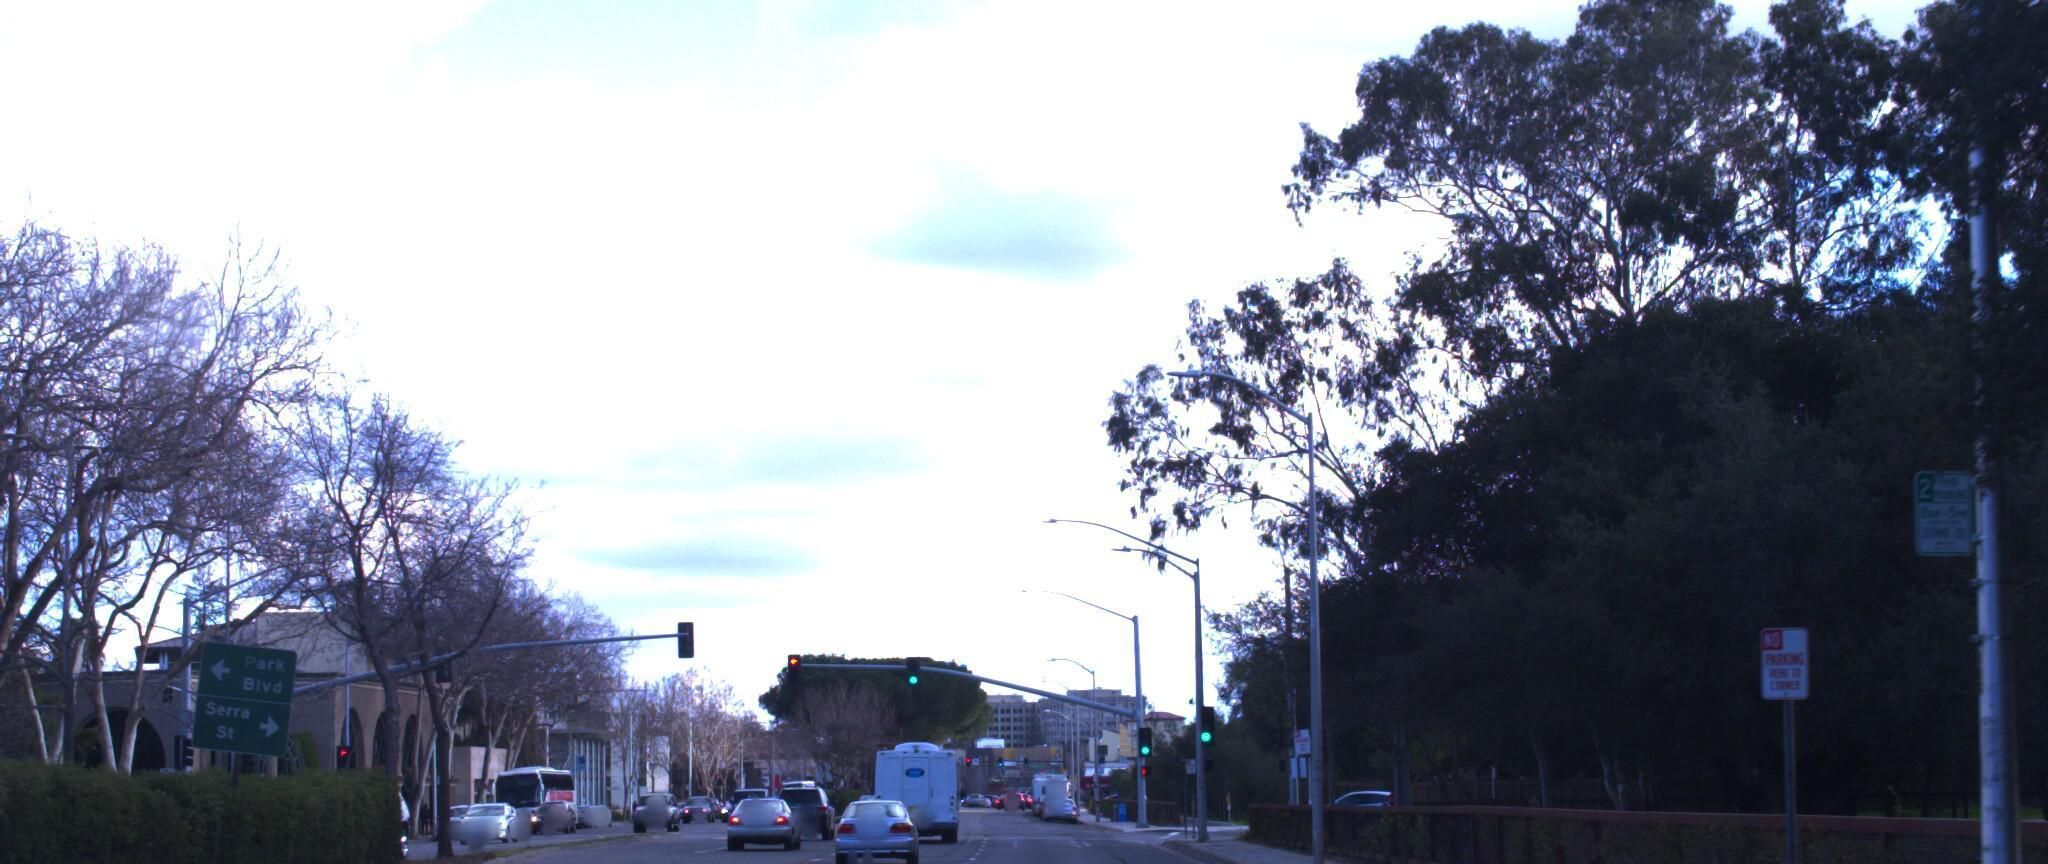car: (829, 775, 921, 854), (731, 770, 808, 827)
